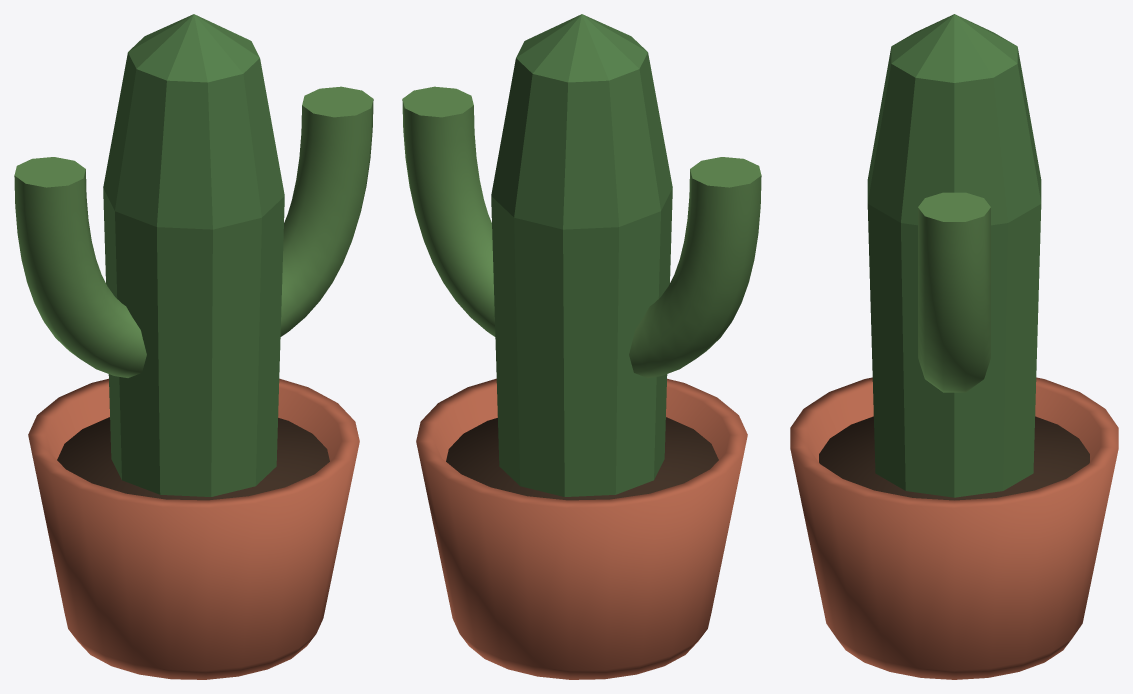
The model's file is i_plant_14.glb.
The picture shows the model from 3 angles, left to right: view 1: azimuth 30°, elevation 25°; view 2: azimuth 150°, elevation 25°; view 3: azimuth 270°, elevation 25°; orthographic projection.
Visible parts, largest first — view 1: o.002, o, o.003, o.004, o.001; view 2: o.002, o, o.003, o.004, o.001; view 3: o.002, o, o.004, o.001.
Part boxes in pixels (x1,y1,x2,y2): o.002: (103, 14, 284, 496); o: (28, 378, 359, 679); o.003: (14, 157, 146, 377); o.004: (280, 86, 373, 336); o.001: (57, 417, 329, 500); o.002: (491, 14, 672, 496); o: (416, 378, 747, 679); o.003: (629, 157, 761, 377); o.004: (402, 86, 495, 336); o.001: (446, 417, 718, 500); o.002: (867, 14, 1041, 497); o: (790, 377, 1118, 679); o.004: (918, 192, 990, 392); o.001: (819, 416, 1089, 500).
Size of the model in its own units: 0.266 by 0.45 by 0.2178.
